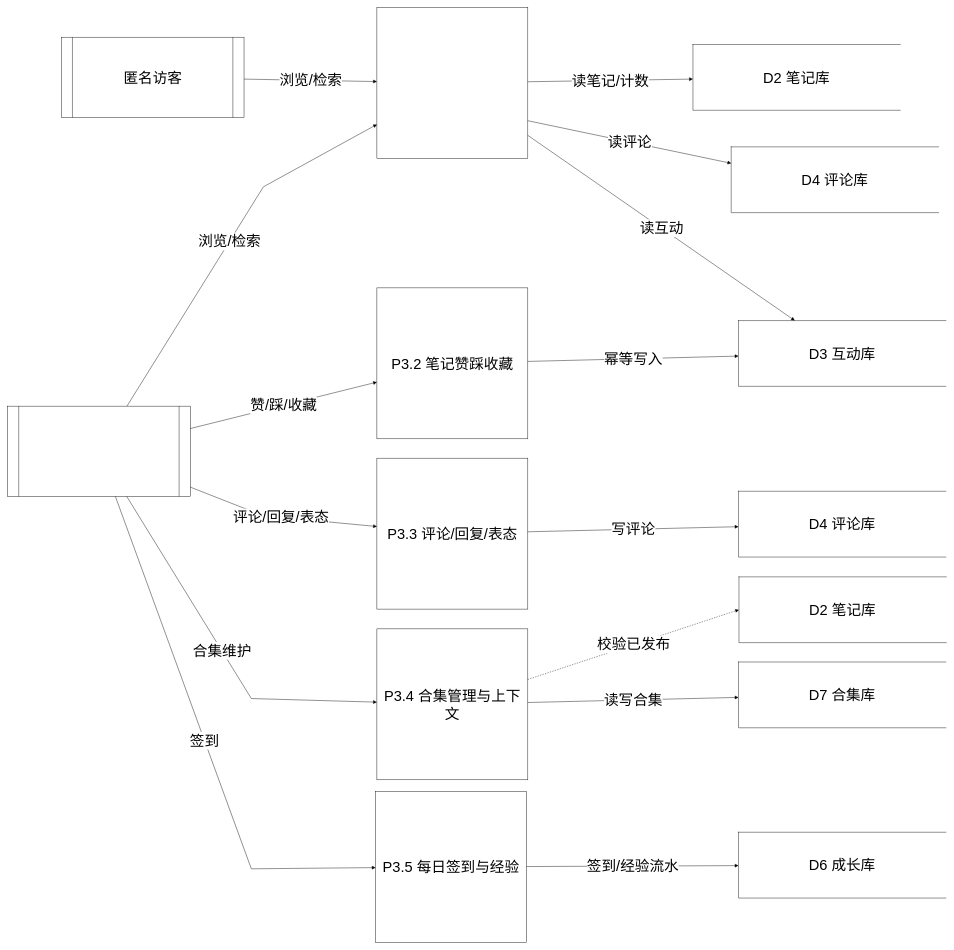
Image size: 954x950. Some labels were removed from this diagram. Each missing label, with the centre of its shape:
"P3.1 列表/详情查询" goes at (452,82).
"注册用户" goes at (98,451).
